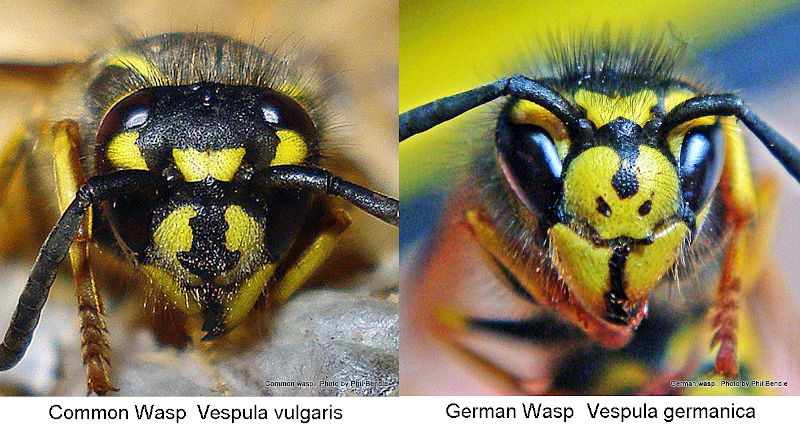chax: (1, 15, 396, 390), (407, 16, 796, 382)
